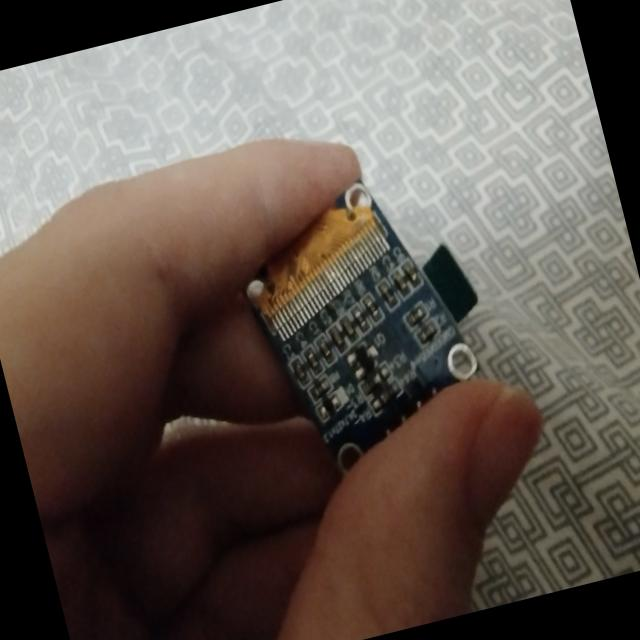oled: (222, 152, 518, 498)
